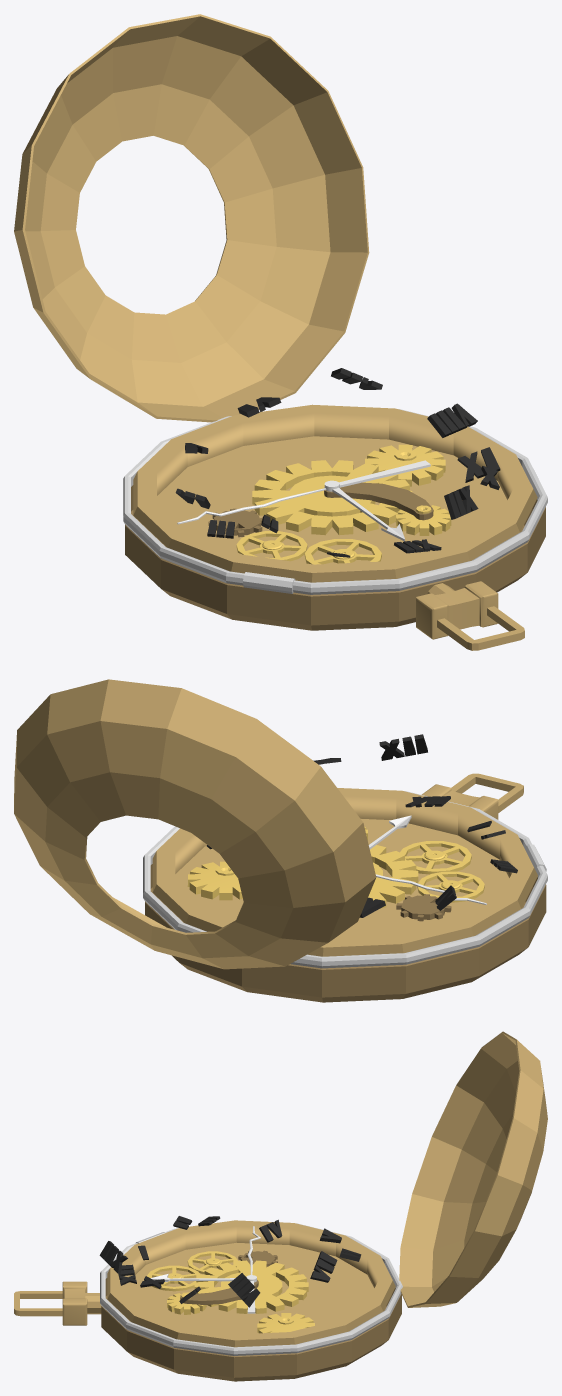
Rendered from Clock.fbx.
3 views of the same model, one above another, from view 1: azimuth 30°, elevation 25°; view 2: azimuth 150°, elevation 25°; view 3: azimuth 270°, elevation 25° (orthographic). The views are drawn at different scales.
Parts seen in each view (by area): view 1: polySurface2, clock_surface, clock_base, clock_ring, Gear_main, clock_lock, Gear_5, Gear_bridge, Gear_3, Gear_2, Gear_1, viii (+1 smaller); view 2: polySurface2, clock_surface, clock_base, clock_ring, clock_lock, Gear_main, Gear_5, Gear_2, Gear_3, Gear_4, xi, xii; view 3: polySurface2, clock_surface, clock_base, clock_ring, Gear_main, clock_lock, Gear_5, Gear_2, Gear_bridge, Gear_3, viii, vii (+2 smaller).
Part boxes in pixels (<box>): polySurface2: <box>14,14,369,422</box>; clock_surface: <box>133,404,537,582</box>; clock_base: <box>125,485,545,630</box>; clock_ring: <box>123,409,547,594</box>; Gear_main: <box>252,460,412,535</box>; clock_lock: <box>416,581,524,650</box>; Gear_5: <box>365,444,445,486</box>; Gear_bridge: <box>324,482,433,520</box>; Gear_3: <box>236,531,307,561</box>; Gear_2: <box>304,539,381,564</box>; Gear_1: <box>395,505,451,535</box>; viii: <box>427,403,477,437</box>; polySurface2: <box>14,679,376,969</box>; clock_surface: <box>152,788,537,956</box>; clock_base: <box>145,864,546,1002</box>; clock_ring: <box>143,791,547,968</box>; clock_lock: <box>421,773,523,819</box>; Gear_main: <box>368,845,418,908</box>; Gear_5: <box>187,861,242,900</box>; Gear_2: <box>400,841,471,874</box>; Gear_3: <box>417,871,484,902</box>; Gear_4: <box>396,894,451,921</box>; xi: <box>379,734,427,760</box>; xii: <box>405,796,450,807</box>; polySurface2: <box>399,1031,547,1307</box>; clock_surface: <box>107,1220,395,1347</box>; clock_base: <box>101,1278,401,1381</box>; clock_ring: <box>100,1223,402,1355</box>; Gear_main: <box>194,1260,308,1313</box>; clock_lock: <box>14,1281,87,1325</box>; Gear_5: <box>257,1313,314,1333</box>; Gear_2: <box>147,1265,199,1291</box>; Gear_bridge: <box>180,1280,258,1304</box>; Gear_3: <box>187,1251,237,1273</box>; viii: <box>228,1273,260,1307</box>; vii: <box>310,1251,337,1282</box>.
Bounding box in the file's own units: 618 × 612 × 1075.
